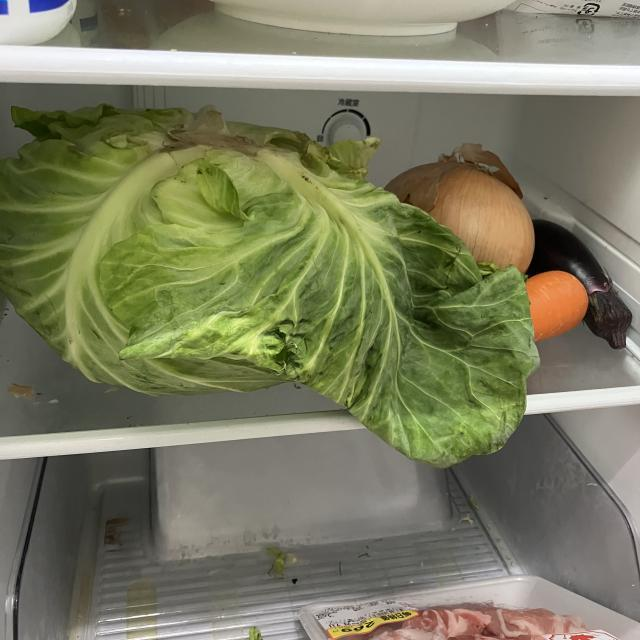cabbage: (3, 98, 302, 387)
onion: (379, 141, 537, 280)
